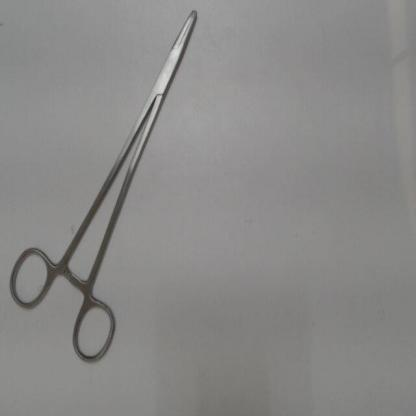8 Mayo Needle Holder: (4, 1, 209, 374)
